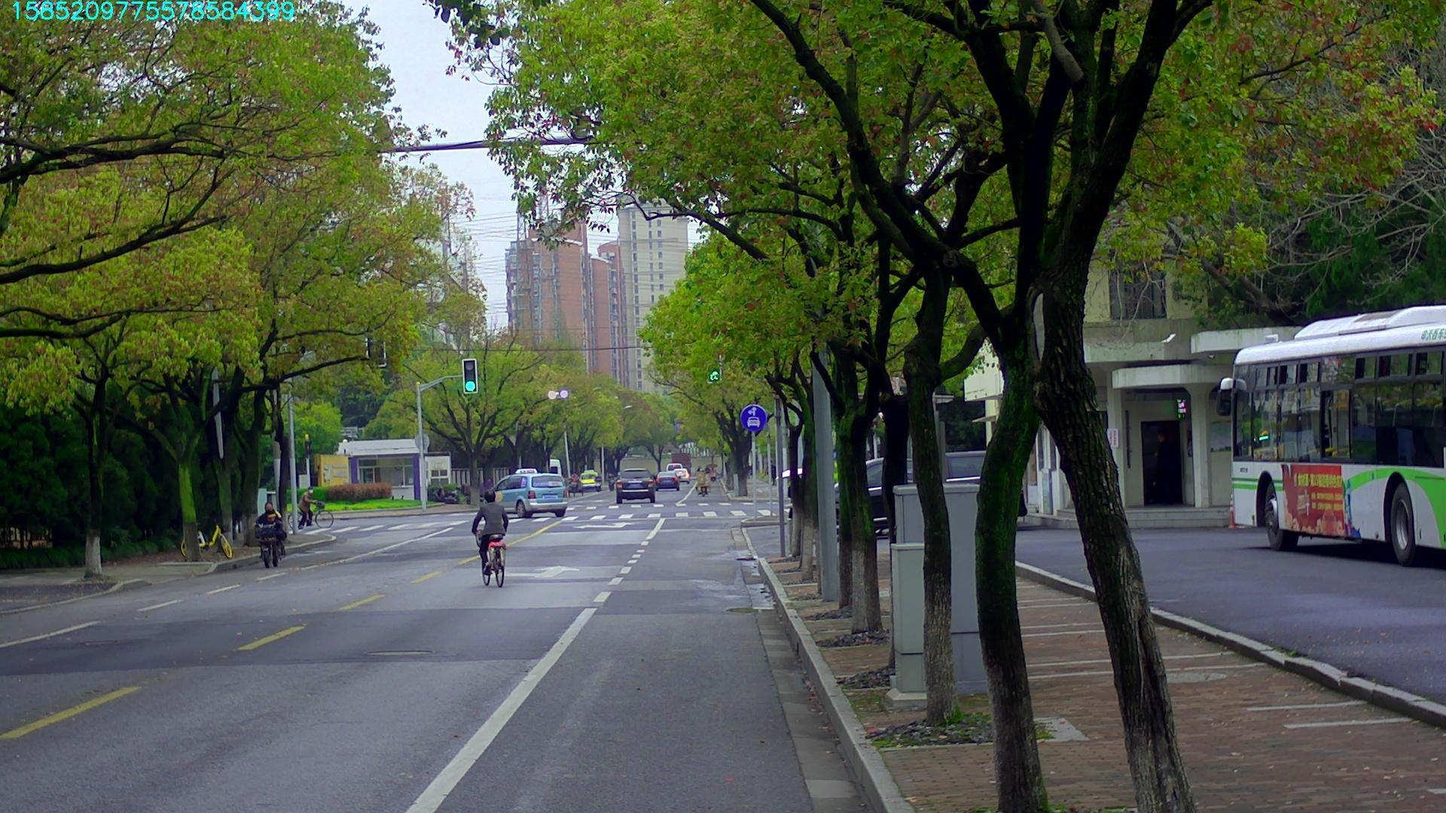green: (463, 359, 475, 392), (708, 366, 719, 382)
